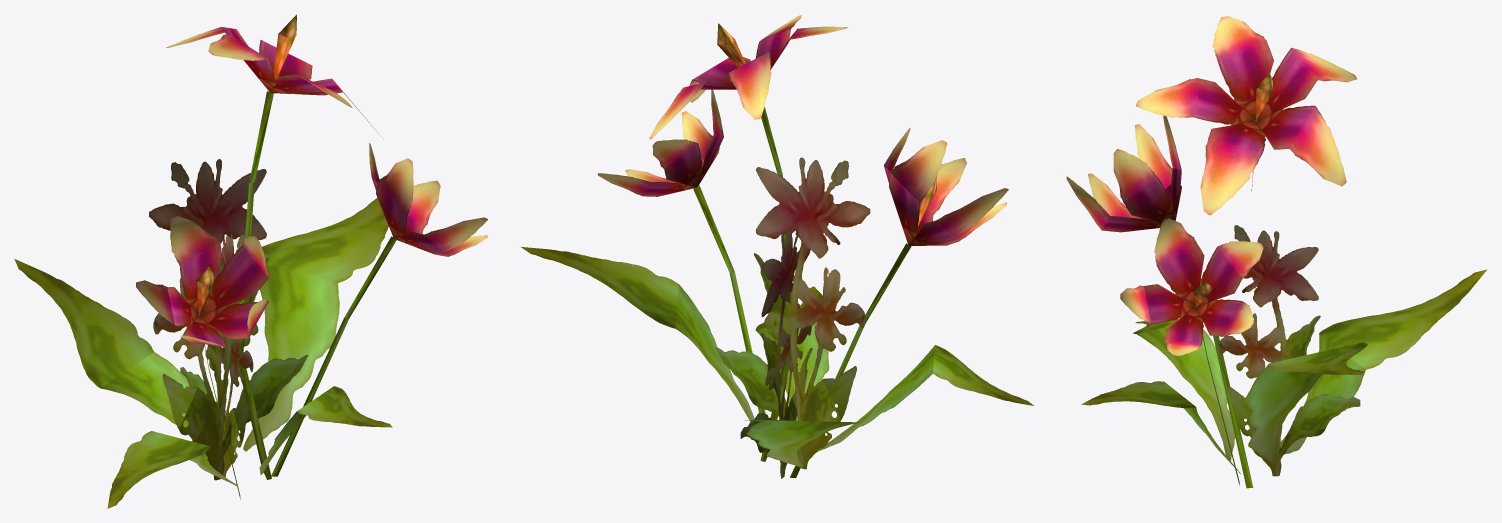
File: TwistedJungle_Flower01.FBX
The picture shows the model from 3 angles, left to right: view 1: azimuth 30°, elevation 25°; view 2: azimuth 150°, elevation 25°; view 3: azimuth 270°, elevation 25°; orthographic projection. The views are drawn at different scales.
Visible parts, largest first — view 1: TwistedJungle_Flower01; view 2: TwistedJungle_Flower01; view 3: TwistedJungle_Flower01.
Boxes of the visible parts, <box> form: TwistedJungle_Flower01: <box>14,14,487,508</box>; TwistedJungle_Flower01: <box>521,15,1033,478</box>; TwistedJungle_Flower01: <box>1066,16,1487,488</box>.
Size of the model in its own units: 69.75 by 74.96 by 63.65.
